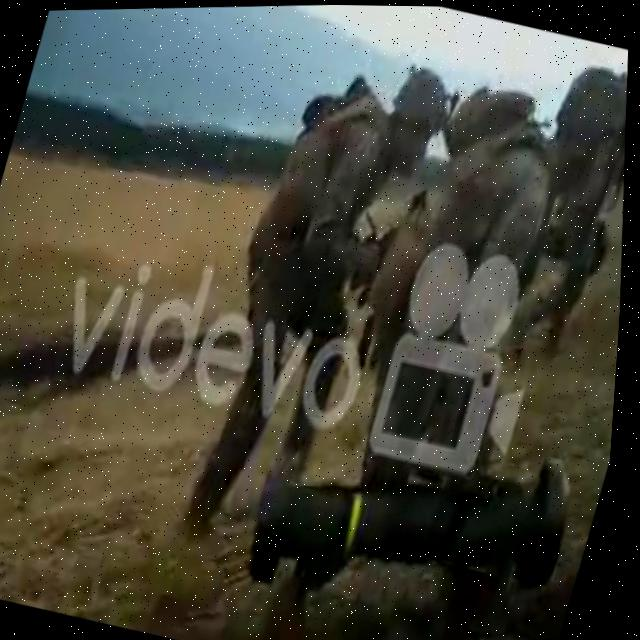rocket: (232, 381, 597, 640)
